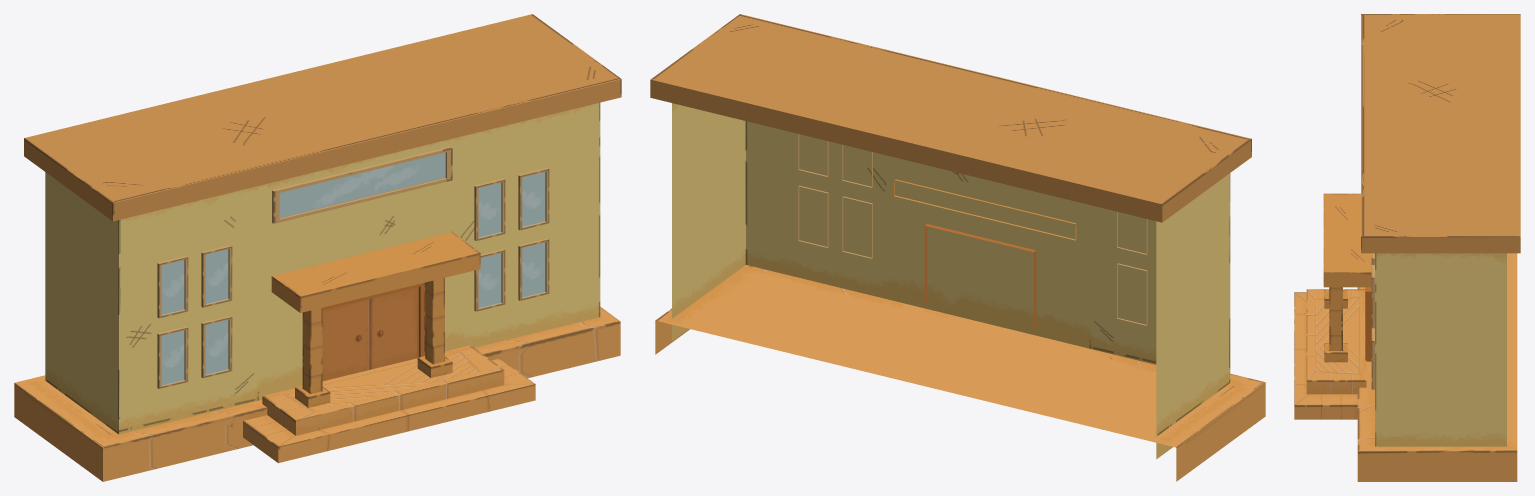
The model's file is BUILD_Class2 1.fbx.
3 views of the same model, side by side, from view 1: azimuth 30°, elevation 25°; view 2: azimuth 150°, elevation 25°; view 3: azimuth 270°, elevation 25° (orthographic). The views are drawn at different scales.
Parts seen in each view (by area): view 1: Cube.039, Cube.063, Cube.040, Cube.058, Cube.041, Cube.057, Cube.061, Cube.062, Cube.060; view 2: Cube.039, Cube.063, Cube.040, Cube.061, Cube.041; view 3: Cube.039, Cube.063, Cube.058, Cube.041, Cube.057, Cube.060, Cube.040, Cube.061.
Part boxes in pixels (<box>): Cube.039: <box>24,14,621,434</box>; Cube.063: <box>14,307,620,481</box>; Cube.040: <box>157,168,549,388</box>; Cube.058: <box>262,345,504,435</box>; Cube.041: <box>271,232,480,312</box>; Cube.057: <box>243,358,535,463</box>; Cube.061: <box>322,282,425,381</box>; Cube.062: <box>272,146,452,223</box>; Cube.060: <box>295,278,452,407</box>; Cube.039: <box>650,14,1251,459</box>; Cube.063: <box>655,265,1265,481</box>; Cube.040: <box>798,134,1147,325</box>; Cube.061: <box>924,224,1036,330</box>; Cube.041: <box>894,179,1076,240</box>; Cube.039: <box>1361,14,1520,446</box>; Cube.063: <box>1357,253,1517,481</box>; Cube.058: <box>1306,289,1366,394</box>; Cube.041: <box>1323,193,1371,287</box>; Cube.057: <box>1294,292,1357,419</box>; Cube.060: <box>1324,287,1347,362</box>; Cube.040: <box>1371,253,1374,389</box>; Cube.061: <box>1365,287,1371,361</box>.
Size of the model in its own units: 1638 by 825 by 688.
